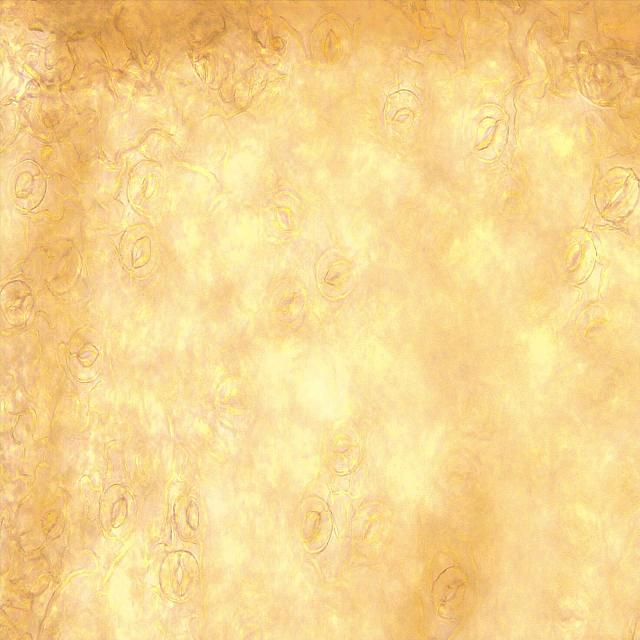Stomata: (309, 12, 353, 78), (466, 101, 511, 162), (593, 165, 640, 223), (291, 495, 335, 556), (126, 159, 170, 218), (554, 229, 598, 287), (215, 374, 259, 431), (430, 565, 474, 621), (382, 88, 424, 146), (315, 246, 358, 302), (119, 223, 160, 280), (159, 548, 200, 605), (6, 158, 48, 213), (321, 422, 363, 476), (66, 326, 105, 383), (265, 190, 306, 243), (98, 483, 137, 538), (269, 276, 307, 325), (0, 278, 35, 327)
